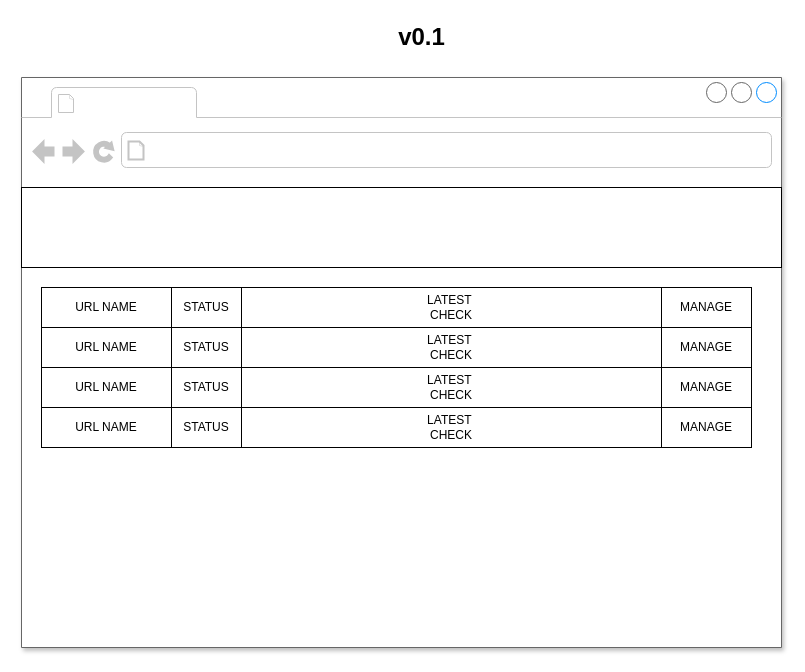
Some shapes in this 805 by 672 pixel diagram are drawn without their labels. The centre of each missing label's shape, as x and y in pixels:
"HOME DASHBOARD MANAGE ABOUT" belongs at pixel 401 227.
"https://www.draw.io" belongs at pixel 276 150.
"Page 1" belongs at pixel 136 102.
